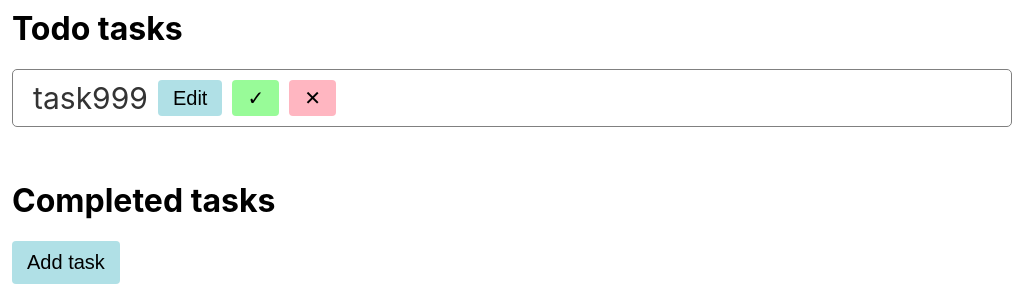
Test: Testing › Change task
Click the button with class "todo__button--edit".
click(191, 98)  # box [158,80,223,116]
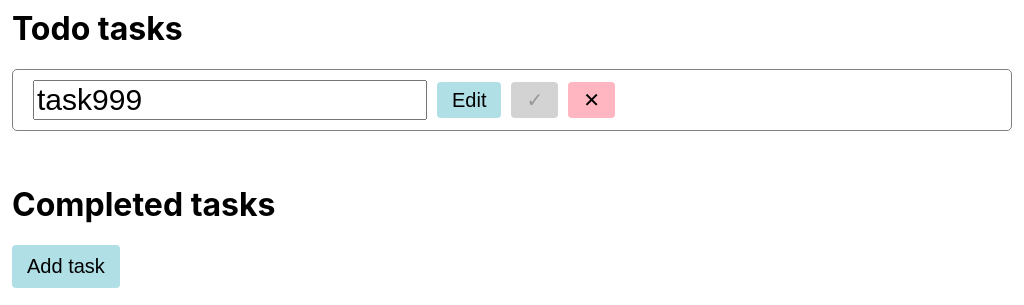
Type "99" into the field.
click(230, 100); type("99")  # box [33,80,427,120]
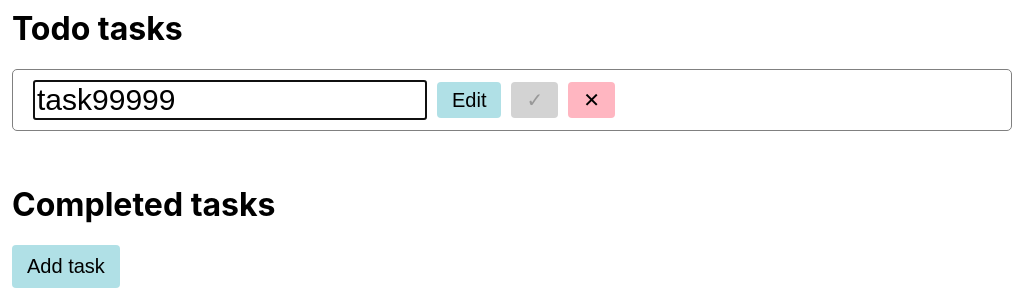
Check: the field holds "task99999", box [33,80,427,120]
Click the button with class "todo__button--edit".
click(470, 100)  # box [437,82,502,118]
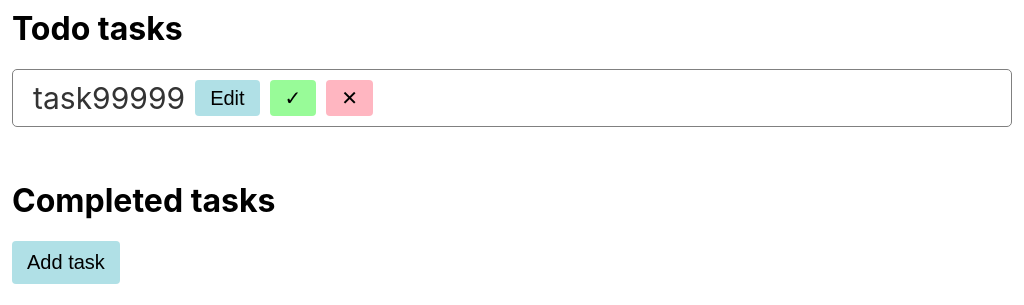
Check: the text "task99999" is shown, box [33,80,185,116]
